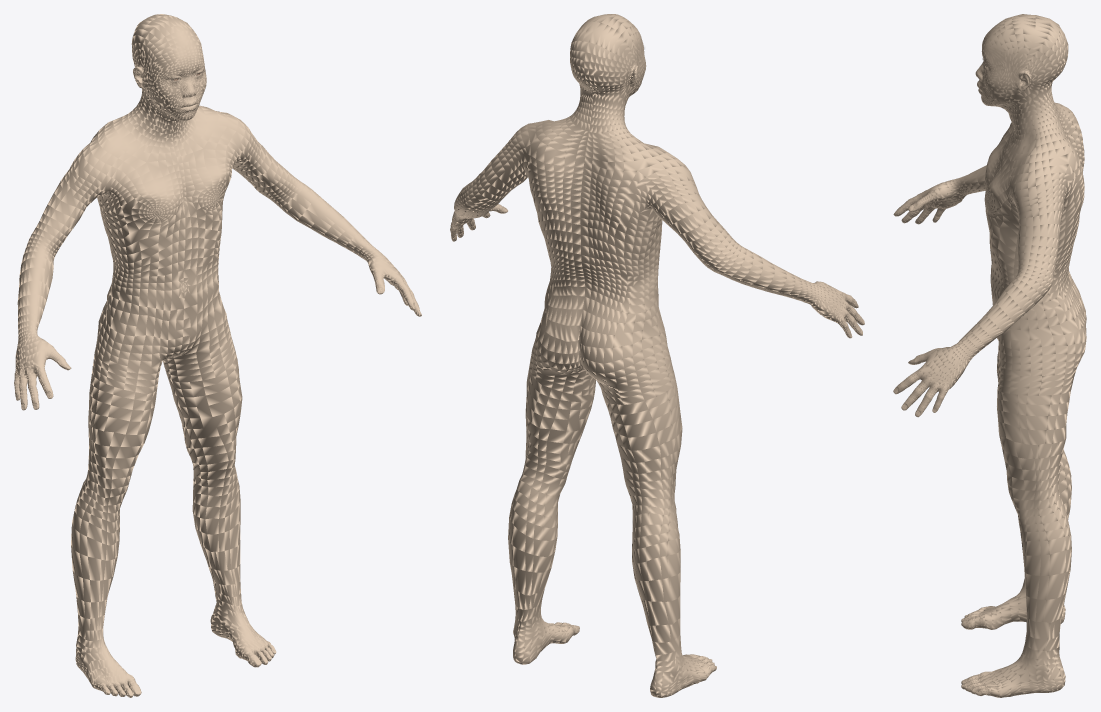
The model's file is man.glb.
3 views of the same model, side by side, from view 1: azimuth 30°, elevation 25°; view 2: azimuth 150°, elevation 25°; view 3: azimuth 270°, elevation 25° (orthographic).
Parts seen in each view (by area): view 1: manMesh; view 2: manMesh; view 3: manMesh.
Boxes of the visible parts, bbox=[...] form: manMesh: bbox=[14, 14, 421, 697]; manMesh: bbox=[450, 14, 864, 697]; manMesh: bbox=[893, 14, 1086, 697].
Bounding box in the file's own units: 1.06 × 1.63 × 0.4451.
4 materials, 3 textured.
